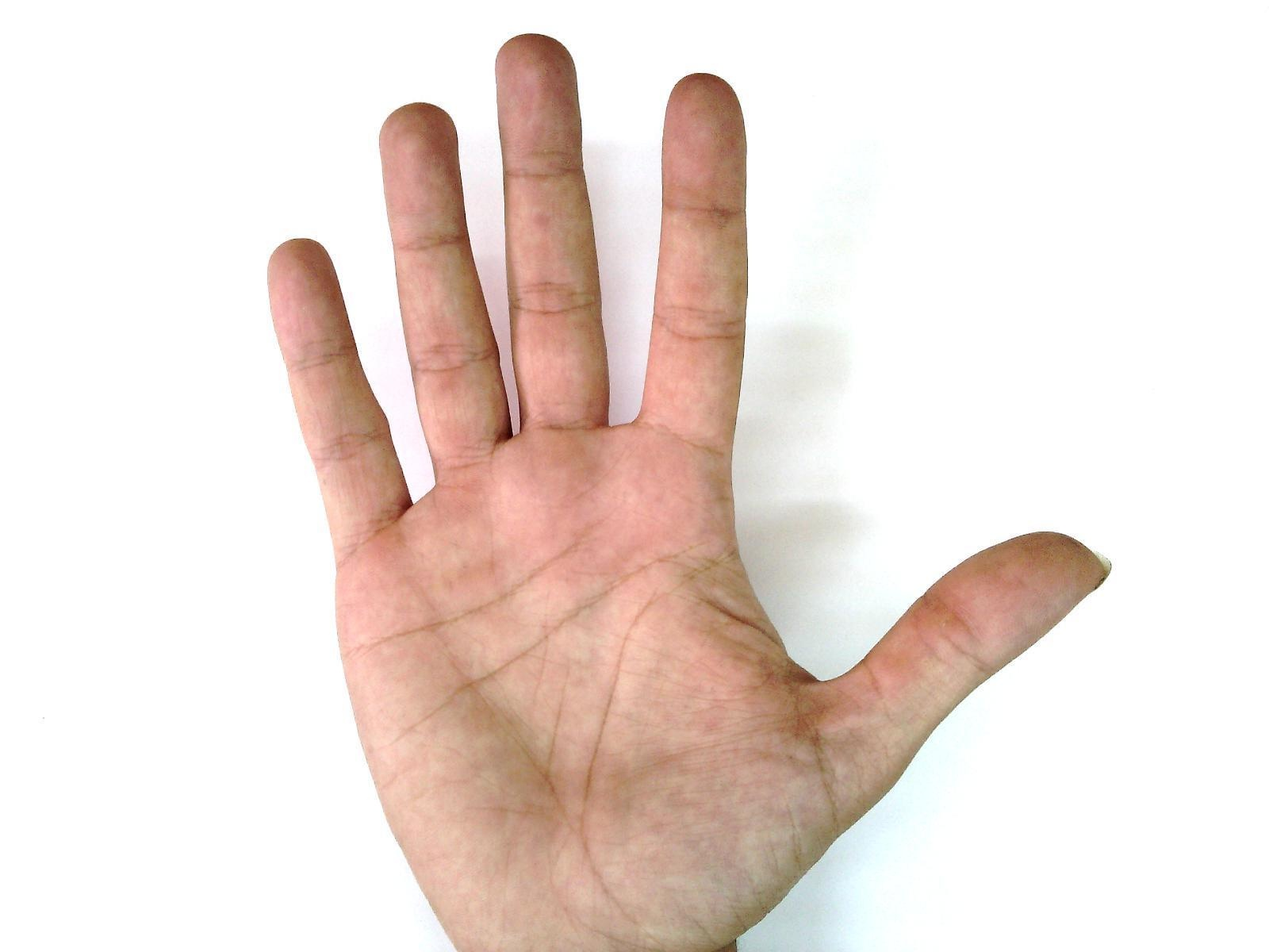open_palm: (263, 32, 1114, 951)
